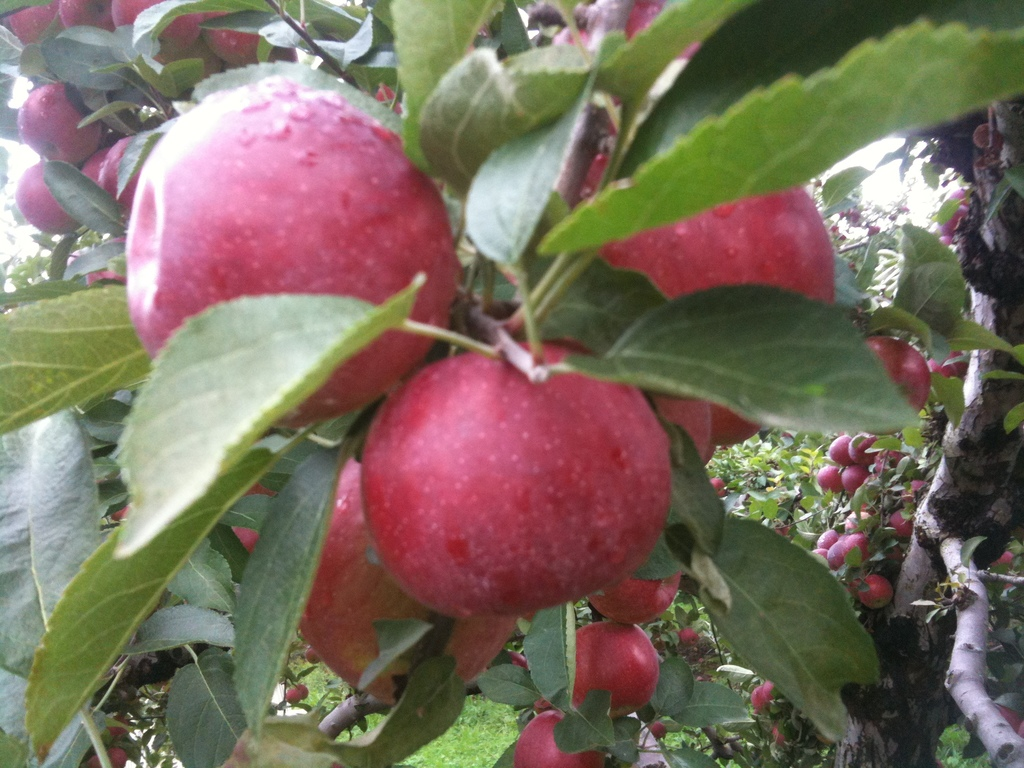Apple: (1, 0, 1023, 767), (349, 343, 670, 625)
